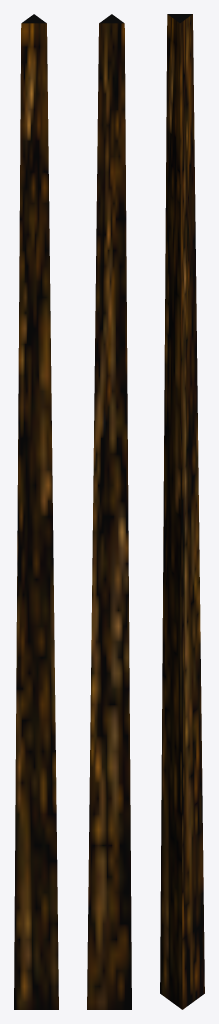
The model's file is Kabel_Lichtmast2_2594.glb.
3 renders of one model, left to right at view 1: azimuth 30°, elevation 25°; view 2: azimuth 150°, elevation 25°; view 3: azimuth 330°, elevation 25°, orthographic.
Parts seen in each view (by area): view 1: pCylinderShape65; view 2: pCylinderShape65; view 3: pCylinderShape65.
Boxes of the visible parts, <box> form: pCylinderShape65: <box>14,14,58,1009</box>; pCylinderShape65: <box>87,14,131,1009</box>; pCylinderShape65: <box>160,14,204,1009</box>.
Size of the model in its own units: 0.0315 by 0.8785 by 0.0364.
Materials: 1 (1 with a texture image).
